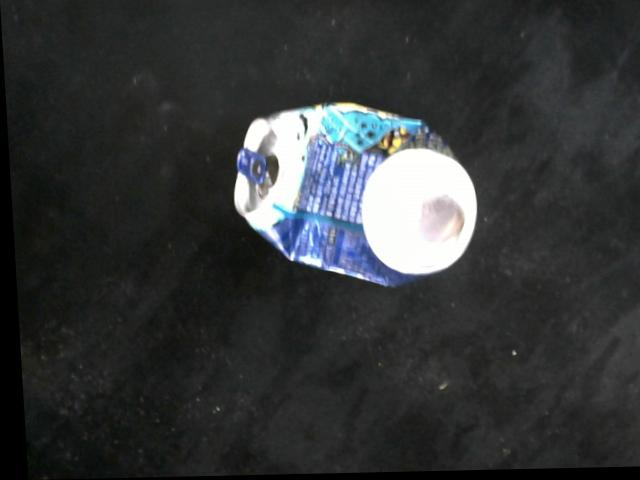can: (225, 98, 476, 288)
